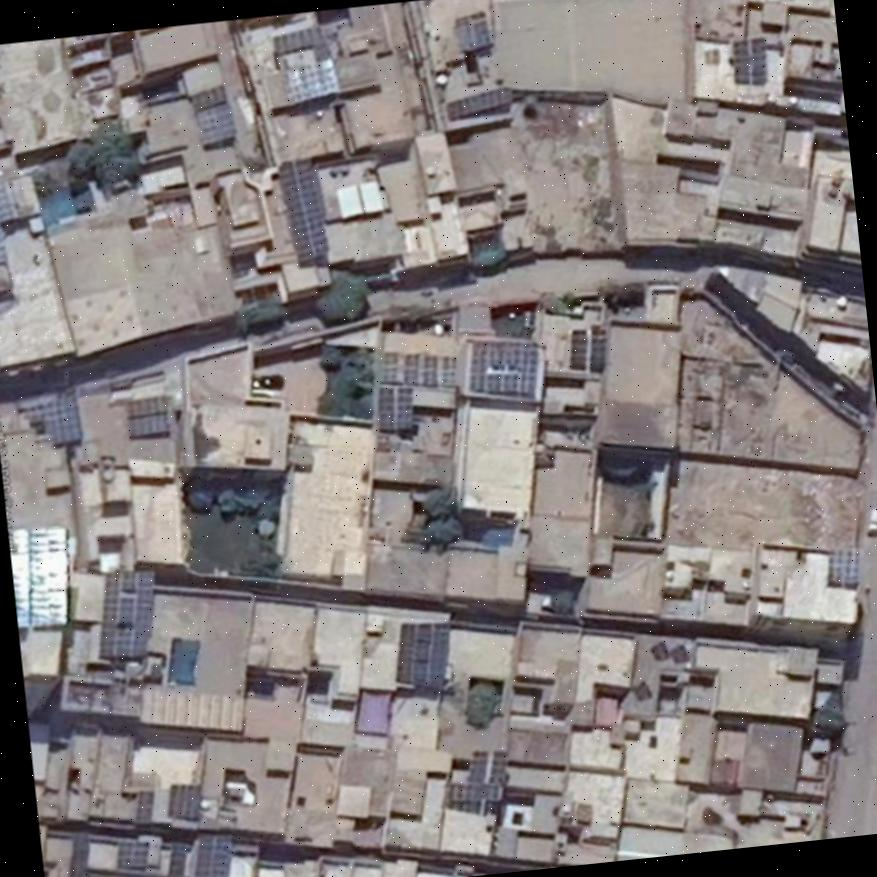Solarpanel: (8, 528, 69, 627), (279, 157, 328, 260), (101, 571, 157, 659), (396, 624, 449, 686), (471, 344, 535, 391), (0, 182, 30, 266), (284, 59, 340, 102), (42, 396, 80, 446), (447, 87, 510, 117), (193, 830, 229, 877), (733, 36, 764, 84), (454, 13, 492, 51), (379, 389, 412, 430), (830, 549, 860, 583), (170, 785, 198, 818), (117, 843, 149, 868)
